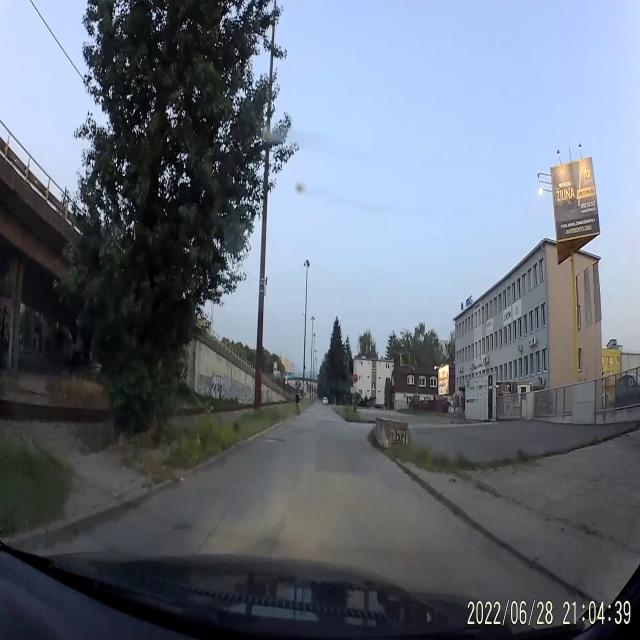Pothole: (173, 521, 194, 534), (264, 434, 284, 447)
